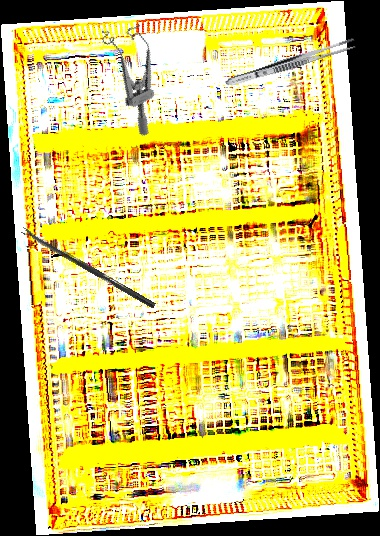Dressing Forceps: (223, 35, 358, 91)
Speculum: (90, 12, 186, 139)
Surgical Spoon: (20, 226, 157, 309)
